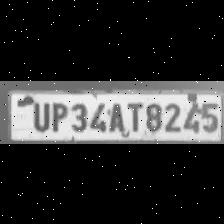2: (162, 100, 182, 132)
3: (67, 99, 87, 130)
4: (88, 99, 108, 131), (182, 98, 200, 132)
5: (197, 98, 217, 132)
8: (142, 100, 162, 132)
A: (105, 98, 125, 132)
P: (49, 99, 67, 130)
T: (124, 98, 142, 132)
U: (28, 97, 50, 130)
